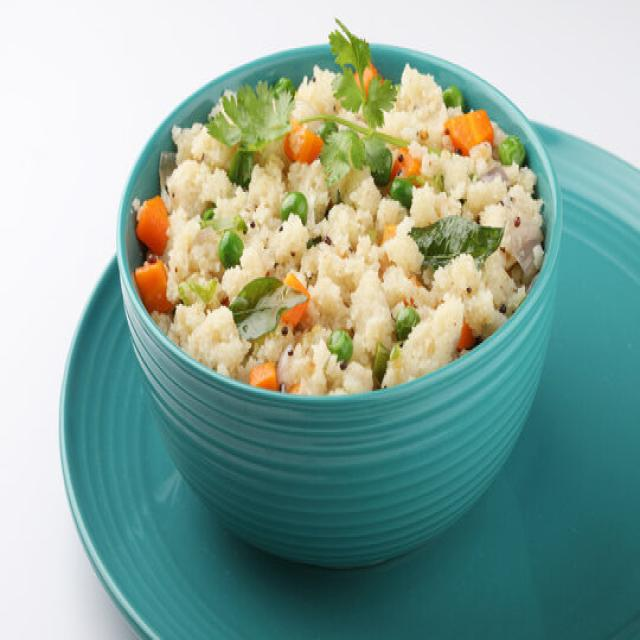UPMA: (132, 25, 544, 393), (135, 260, 171, 309)
